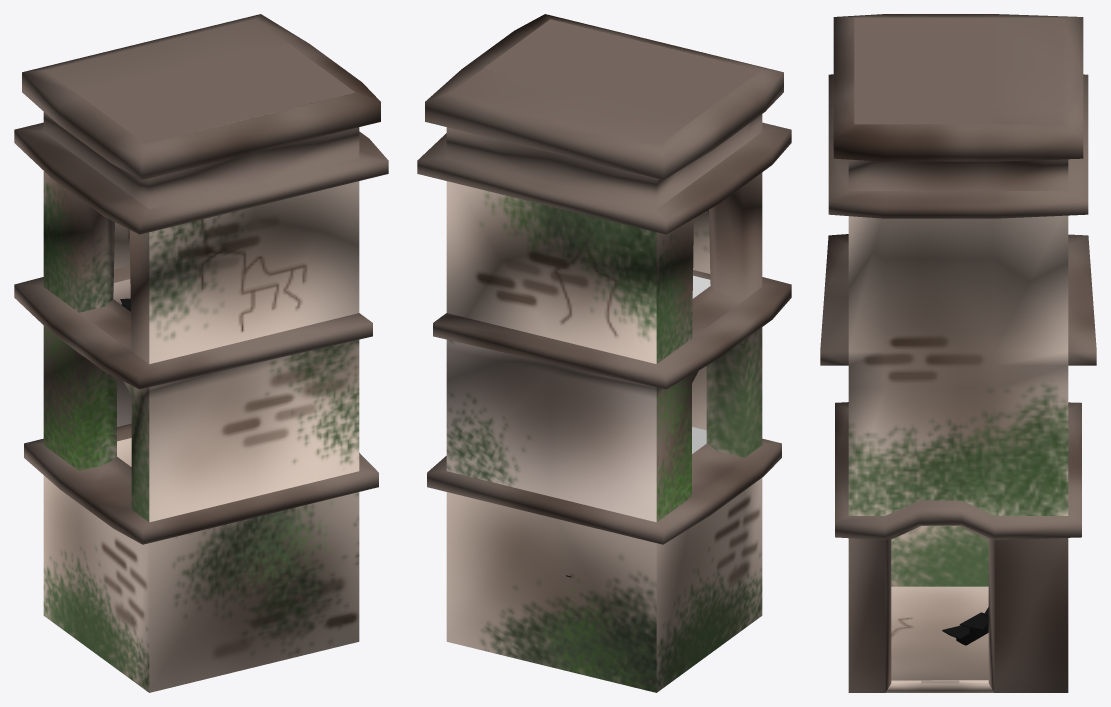
File: Edificio habitable.FBX
3 renders of one model, left to right at view 1: azimuth 30°, elevation 25°; view 2: azimuth 150°, elevation 25°; view 3: azimuth 270°, elevation 25°, orthographic. The views are drawn at different scales.
Visible parts, largest first — view 1: Edificio afuera; view 2: Edificio afuera; view 3: Edificio afuera, SpiralStair001.
Boxes of the visible parts, <box> form: Edificio afuera: <box>14,14,388,692</box>; Edificio afuera: <box>417,14,791,692</box>; Edificio afuera: <box>820,14,1096,692</box>; SpiralStair001: <box>942,607,988,645</box>.
Bounding box in the file's own units: 415 × 819 × 361.
